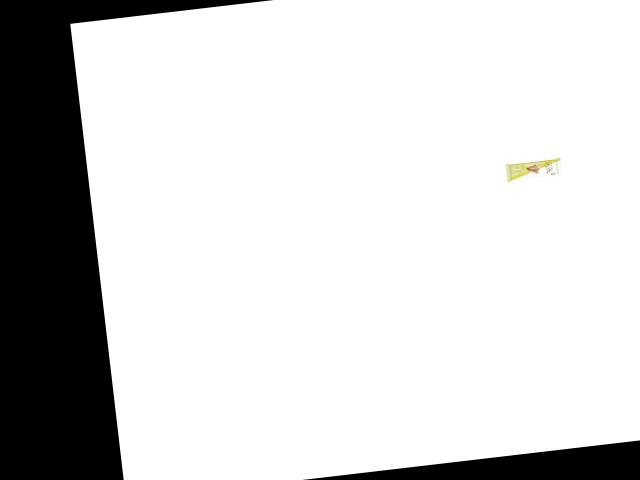chocolate: (501, 151, 566, 186)
